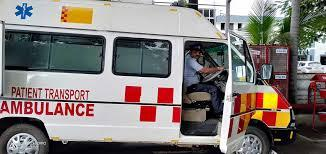Emergency-Vehicles: (0, 24, 249, 154)
